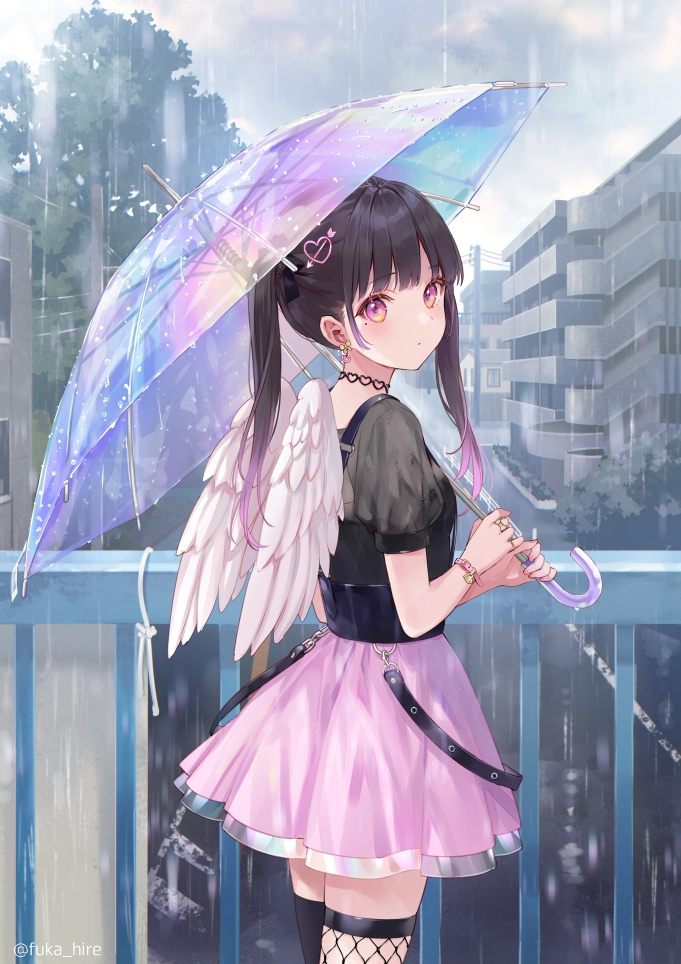纸片人正脸: (271, 165, 470, 382)
